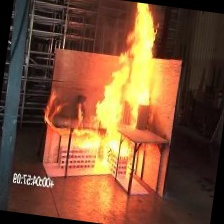fire: (65, 0, 178, 185)
